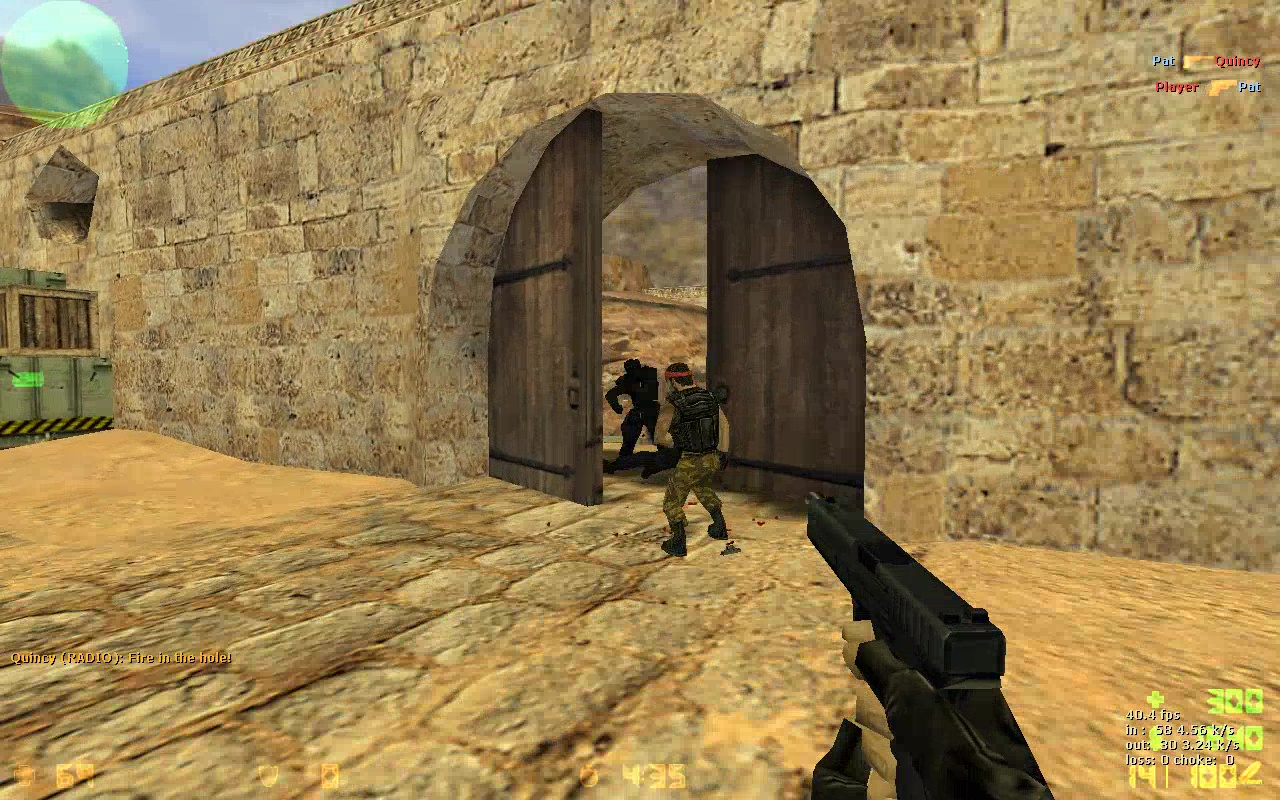ct: (608, 359, 662, 467)
terr1: (648, 363, 735, 557)
